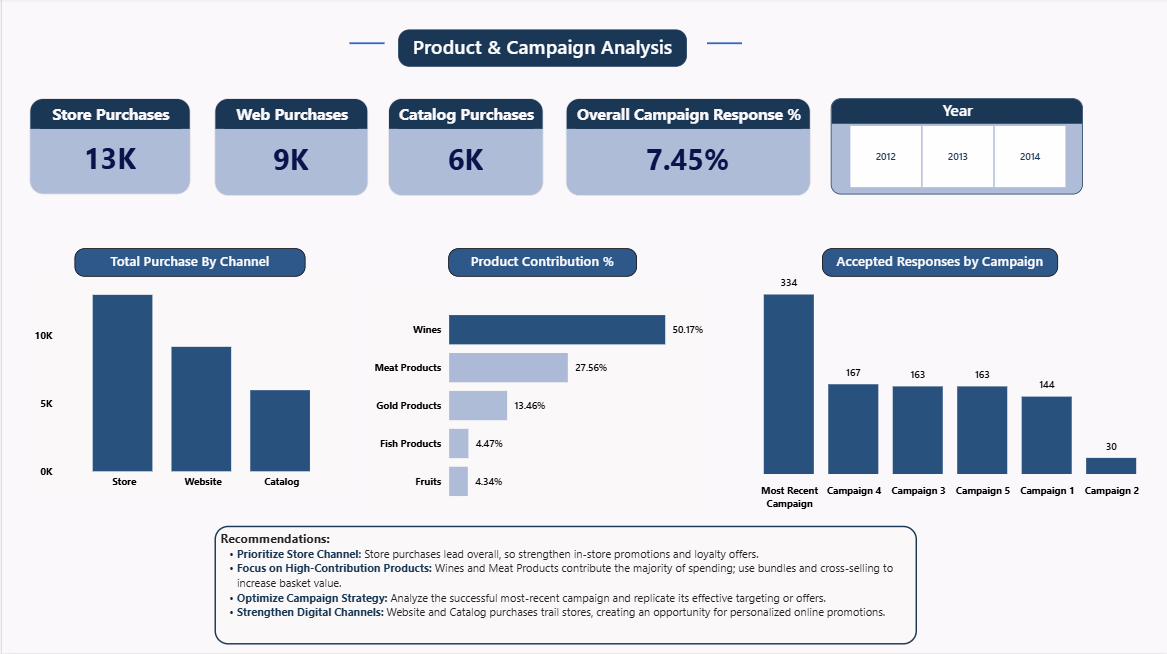

Layout of this report page (visuals, bound fields, positions):
{"tool":"powerbi","page":{"name":" Product & Campaign Analysis","canvas":[1280,720],"ordinal":2},"visuals":[{"type":"clusteredColumnChart","fields":{"Category":["Dim_Channel.Channel"],"Y":["Sum(Fact_Channel.Purchases)"]},"box":[30.2,297.8,351.3,251.1],"z":0},{"type":"columnChart","fields":{"Category":["Dim_Campaign.Campaign_Name"],"Y":["_Measures.Accepted_Campaign"]},"box":[793.1,292.3,487.1,278.6],"z":1000},{"type":"cardVisual","title":"Overall Campaign Response %","fields":{"Data":["_Measures.Campaign_Accepted_Rate"]},"box":[618.9,111.1,269,107],"z":2000},{"type":"barChart","fields":{"Y":["_Measures.Product Contribution %"],"Category":["Dim_Product.Product_Category"]},"box":[402.1,319.7,373.2,251.1],"z":3000},{"type":"textbox","box":[435,35.7,317,41],"z":4000},{"type":"cardVisual","title":"Web Purchases","fields":{"Data":["_Measures.Web Purchases"]},"box":[233.3,111.1,168.8,107],"z":5000},{"type":"cardVisual","title":"Store Purchases","fields":{"Data":["_Measures.Store Purchases"]},"box":[30.2,111.1,177,105.7],"z":6000},{"type":"cardVisual","title":"Catalog Purchases","fields":{"Data":["_Measures.Catalog Purchases"]},"box":[424,111.1,170.2,107],"z":7000},{"type":"textbox","box":[900.2,275.8,259.3,31.6],"z":8000},{"type":"textbox","box":[79.6,275.8,253.9,31.6],"z":9000},{"type":"textbox","box":[489.9,275.8,207.2,31.6],"z":10000},{"type":"textbox","box":[233.3,580.4,771.2,130.4],"z":11000},{"type":"shape","box":[381.5,24.7,38.4,52.1],"z":12000},{"type":"shape","box":[773.9,24.7,38.4,52.1],"z":13000},{"type":"slicer","title":"Year","fields":{"Values":["Dim_Date.Year"]},"box":[909.8,111.1,277.2,105.7],"z":14000}]}

Visuals, with their boxes in screenshot pixels (x1, y1, x2, y2), scaled from the page's 1280x720 canvas onto the 1167x654 screenshot:
clusteredColumnChart - Dim_Channel.Channel x Sum(Fact_Channel.Purchases): 28, 271, 348, 499
columnChart - Dim_Campaign.Campaign_Name x _Measures.Accepted_Campaign: 723, 266, 1166, 519
"Overall Campaign Response %" cardVisual: 564, 101, 810, 198
barChart - _Measures.Product Contribution % x Dim_Product.Product_Category: 367, 290, 707, 518
textbox: 397, 32, 686, 70
"Web Purchases" cardVisual: 213, 101, 367, 198
"Store Purchases" cardVisual: 28, 101, 189, 197
"Catalog Purchases" cardVisual: 387, 101, 542, 198
textbox: 821, 251, 1057, 279
textbox: 73, 251, 304, 279
textbox: 447, 251, 636, 279
textbox: 213, 527, 916, 646
shape: 348, 22, 383, 70
shape: 706, 22, 741, 70
"Year" slicer: 829, 101, 1082, 197
